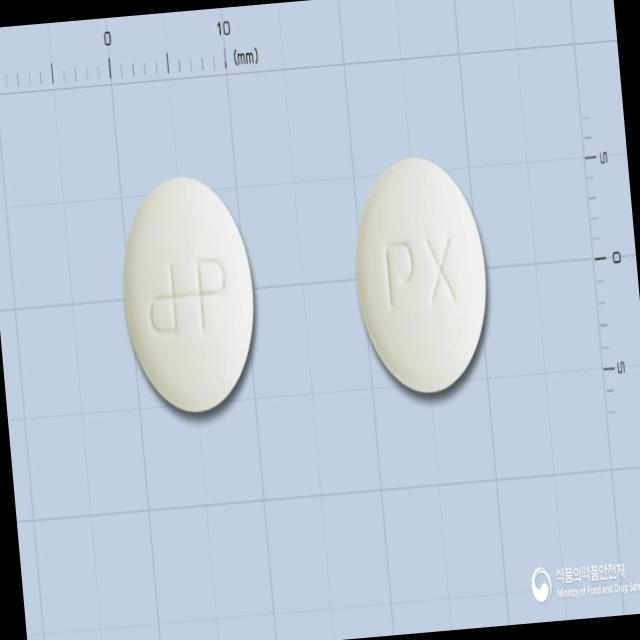Proxco Tab: (112, 169, 264, 418), (346, 150, 496, 398)
